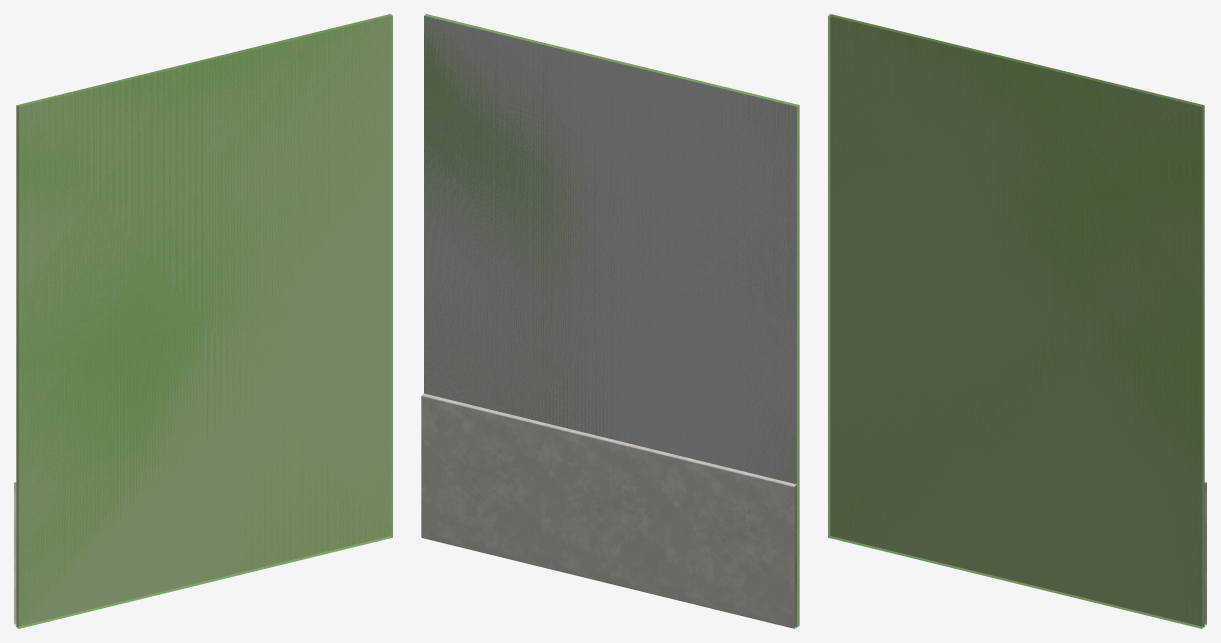
Rendered from F9_md_Wall_4x3_01.fbx.
The picture shows the model from 3 angles, left to right: view 1: azimuth 30°, elevation 25°; view 2: azimuth 150°, elevation 25°; view 3: azimuth 330°, elevation 25°; orthographic projection.
Visible parts, largest first — view 1: F9_md_Wall_4x3_01_col_1, F9_md_Wall_4x3_01_LOD0; view 2: F9_md_Wall_4x3_01_LOD0, F9_md_Wall_4x3_01_col_1; view 3: F9_md_Wall_4x3_01_col_1, F9_md_Wall_4x3_01_LOD0.
Boxes of the visible parts, x1,y1,x2,y2 form: F9_md_Wall_4x3_01_col_1: [16, 14, 392, 628]; F9_md_Wall_4x3_01_LOD0: [14, 14, 390, 626]; F9_md_Wall_4x3_01_LOD0: [421, 16, 796, 628]; F9_md_Wall_4x3_01_col_1: [424, 14, 799, 627]; F9_md_Wall_4x3_01_col_1: [828, 14, 1204, 628]; F9_md_Wall_4x3_01_LOD0: [830, 14, 1206, 626].
Size of what is drawn, in the model's own units: 300 by 400 by 6.83.
